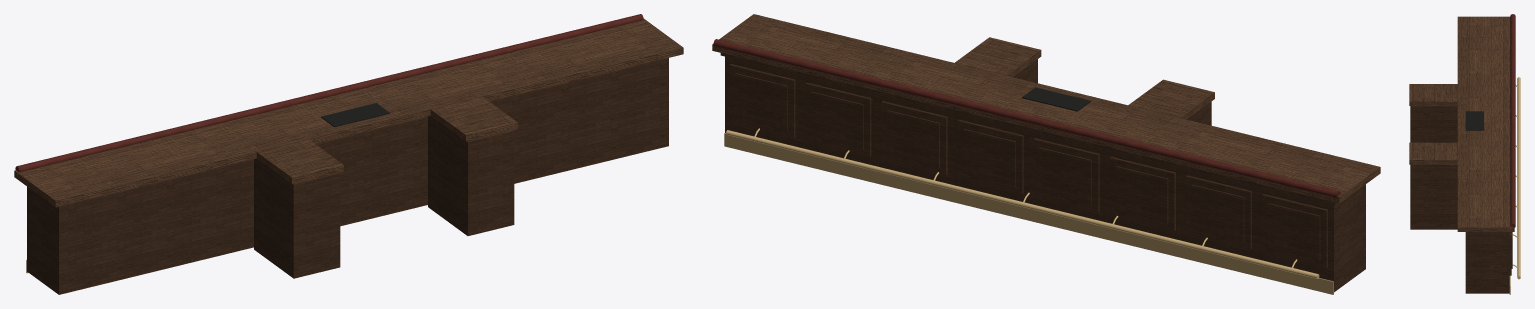
File: balcao.glb
3 renders of one model, left to right at view 1: azimuth 30°, elevation 25°; view 2: azimuth 150°, elevation 25°; view 3: azimuth 270°, elevation 25°, orthographic. The views are drawn at different scales.
Parts seen in each view (by area): view 1: balcao_corpo, balcao_tampo, aba_corpo0.97, aba_corpo-0.97, balcao_apoio, aba_tampo0.97, aba_tampo-0.97, balcao_tapete; view 2: balcao_tampo, balcao_corpo, balcao_rodape, balcao_apoio, balcao_trilho, balcao_almofada1, balcao_almofada0, balcao_almofada2, balcao_almofada6, balcao_almofada7, balcao_almofada3, balcao_almofada4 (+13 smaller); view 3: balcao_tampo, aba_corpo0.97, balcao_corpo, aba_corpo-0.97, balcao_apoio, aba_tampo0.97, aba_tampo-0.97, balcao_trilho, balcao_tapete, balcao_moldura7.
Part boxes in pixels (left/top/right/bottom): balcao_corpo: left=27, top=58, right=668, bottom=294; balcao_tampo: left=14, top=19, right=683, bottom=207; aba_corpo0.97: left=428, top=116, right=514, bottom=235; aba_corpo-0.97: left=254, top=158, right=340, bottom=278; balcao_apoio: left=15, top=14, right=643, bottom=172; aba_tampo0.97: left=428, top=93, right=517, bottom=141; aba_tampo-0.97: left=251, top=139, right=343, bottom=183; balcao_tapete: left=321, top=103, right=389, bottom=127; balcao_tampo: left=712, top=14, right=1380, bottom=203; balcao_corpo: left=725, top=56, right=1365, bottom=292; balcao_rodape: left=724, top=133, right=1333, bottom=294; balcao_apoio: left=713, top=39, right=1340, bottom=197; balcao_trilho: left=726, top=130, right=1319, bottom=278; balcao_almofada1: left=1191, top=184, right=1244, bottom=242; balcao_almofada0: left=1267, top=203, right=1320, bottom=260; balcao_almofada2: left=1115, top=166, right=1168, bottom=223; balcao_almofada6: left=811, top=91, right=863, bottom=149; balcao_almofada7: left=735, top=73, right=787, bottom=131; balcao_almofada3: left=1039, top=147, right=1091, bottom=205; balcao_almofada4: left=963, top=129, right=1015, bottom=186; balcao_tampo: left=1457, top=16, right=1514, bottom=231; aba_corpo0.97: left=1410, top=164, right=1457, bottom=229; balcao_corpo: left=1465, top=232, right=1509, bottom=293; aba_corpo-0.97: left=1410, top=106, right=1457, bottom=142; balcao_apoio: left=1510, top=14, right=1515, bottom=227; aba_tampo0.97: left=1409, top=142, right=1466, bottom=164; aba_tampo-0.97: left=1409, top=84, right=1466, bottom=105; balcao_trilho: left=1517, top=77, right=1520, bottom=279; balcao_tapete: left=1465, top=111, right=1483, bottom=130; balcao_moldura7: left=1509, top=233, right=1511, bottom=275.
Size of the model in its own units: 7 by 1.14 by 1.56.
Materials: 6 (4 with a texture image).
